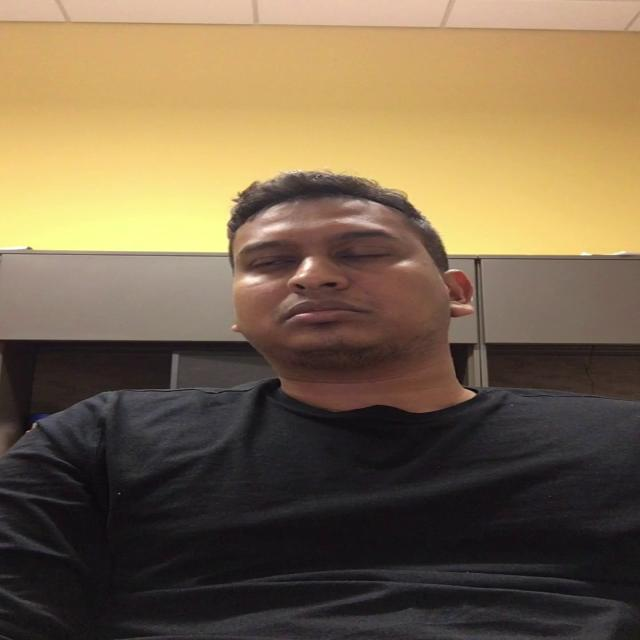Eyeclosed: (344, 247, 393, 265), (250, 255, 296, 273)
